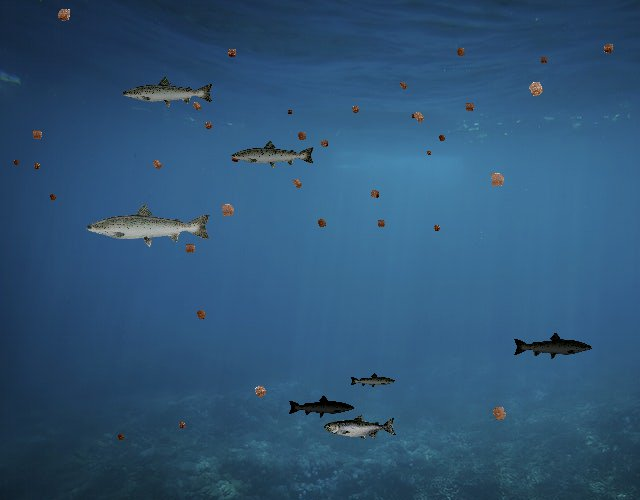Fish: (84, 202, 213, 248), (121, 75, 215, 109), (230, 139, 316, 170), (513, 332, 594, 361), (325, 414, 398, 440), (288, 394, 356, 418), (350, 372, 397, 389)
Pellet: (248, 379, 273, 404), (451, 43, 470, 62), (347, 101, 364, 118), (174, 418, 189, 433), (429, 221, 444, 235), (114, 430, 128, 444), (30, 159, 44, 173)
